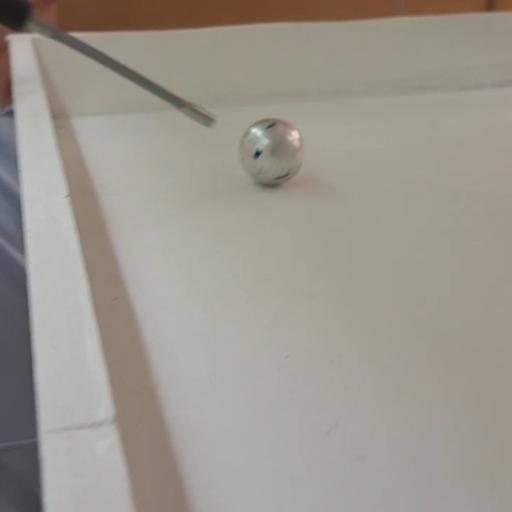alive: (237, 116, 306, 188)
